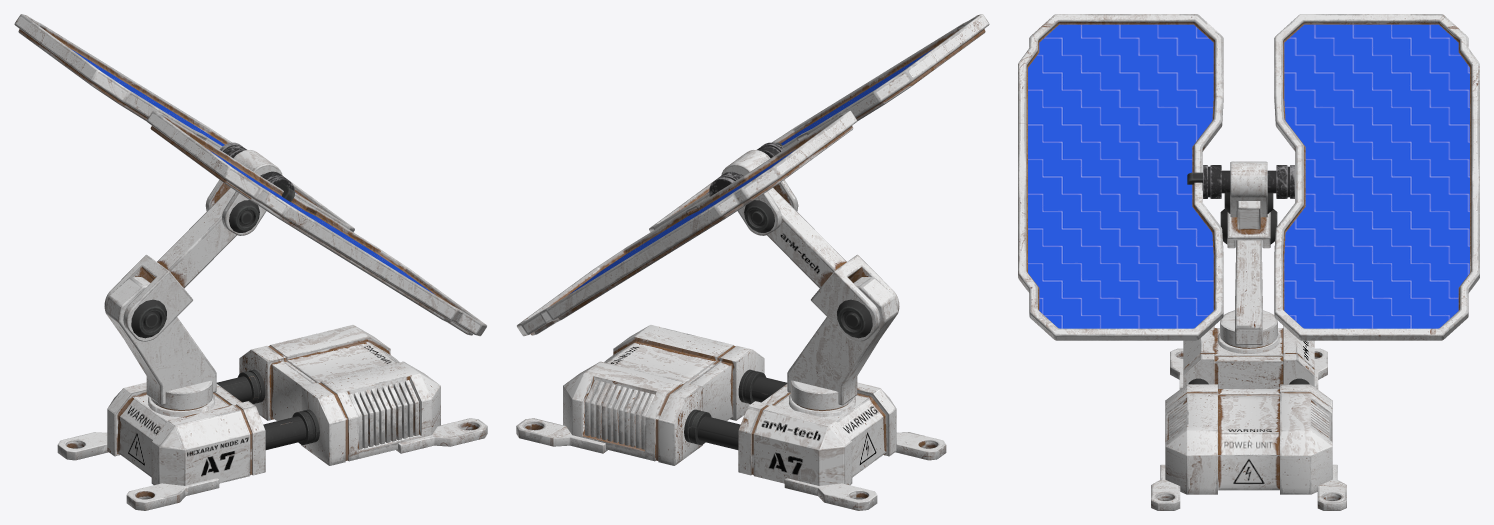
The model's file is sceen_5_bagian_2_energi_terbarukan_solar_panel_1.glb.
The picture shows the model from 3 angles, left to right: view 1: azimuth 30°, elevation 25°; view 2: azimuth 150°, elevation 25°; view 3: azimuth 270°, elevation 25°; orthographic projection. The views are drawn at different scales.
Parts seen in each view (by area): view 1: Solar Panel Base_15, Front Unit_4, Back Base Support_0, Top Arm_11, Base Arm_8, Side Vents_6, Back Bottom base support_2, Power redirect_1, Solar Mirrors_16, Frot Base Support_5, Panel Rotar Parent_12, Base Rotar_7 (+3 smaller); view 2: Solar Panel Base_15, Front Unit_4, Back Base Support_0, Top Arm_11, Base Arm_8, Side Vents_6, Back Bottom base support_2, Power redirect_1, Solar Mirrors_16, Frot Base Support_5, Panel Rotar Parent_12, Base Rotar_7 (+3 smaller); view 3: Solar Mirrors_16, Solar Panel Base_15, Front Unit_4, Back Base Support_0, Base Arm_8, Frot Base Support_5, Panel Rotar Parent_12, Panel Rotar_14, Top Arm_11, Base Rotar_7, Side Vents_6, Back Bottom base support_2.
Boxes of the visible parts, x1,y1,x2,y2 form: Solar Panel Base_15: [14, 14, 486, 336]; Front Unit_4: [239, 325, 440, 465]; Back Base Support_0: [107, 382, 265, 485]; Top Arm_11: [104, 188, 236, 341]; Base Arm_8: [105, 277, 216, 405]; Side Vents_6: [349, 380, 418, 449]; Back Bottom base support_2: [57, 432, 219, 510]; Power redirect_1: [216, 369, 319, 449]; Solar Mirrors_16: [71, 49, 434, 294]; Frot Base Support_5: [391, 355, 487, 453]; Panel Rotar Parent_12: [205, 150, 282, 235]; Base Rotar_7: [151, 380, 212, 410]; Solar Panel Base_15: [517, 14, 989, 336]; Front Unit_4: [563, 325, 764, 465]; Back Base Support_0: [738, 382, 896, 485]; Top Arm_11: [767, 188, 899, 341]; Base Arm_8: [787, 277, 898, 405]; Side Vents_6: [585, 380, 654, 449]; Back Bottom base support_2: [784, 432, 946, 510]; Power redirect_1: [684, 369, 787, 449]; Solar Mirrors_16: [569, 49, 932, 294]; Frot Base Support_5: [516, 355, 612, 453]; Panel Rotar Parent_12: [721, 150, 798, 235]; Base Rotar_7: [791, 380, 852, 410]; Solar Mirrors_16: [1028, 24, 1469, 328]; Solar Panel Base_15: [1018, 14, 1479, 340]; Front Unit_4: [1165, 384, 1332, 494]; Back Base Support_0: [1183, 326, 1314, 388]; Base Arm_8: [1235, 240, 1262, 344]; Frot Base Support_5: [1151, 464, 1346, 510]; Panel Rotar Parent_12: [1230, 161, 1267, 217]; Panel Rotar_14: [1203, 165, 1294, 198]; Top Arm_11: [1227, 201, 1270, 248]; Base Rotar_7: [1220, 310, 1277, 348]; Side Vents_6: [1168, 402, 1329, 439]; Back Bottom base support_2: [1170, 348, 1327, 389].
Size of the model in its own units: 7.05 by 7.56 by 8.9.
7 materials, 7 textured.
